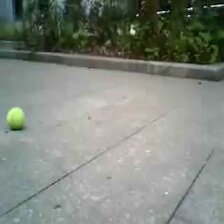tennis: (7, 107, 26, 130)
